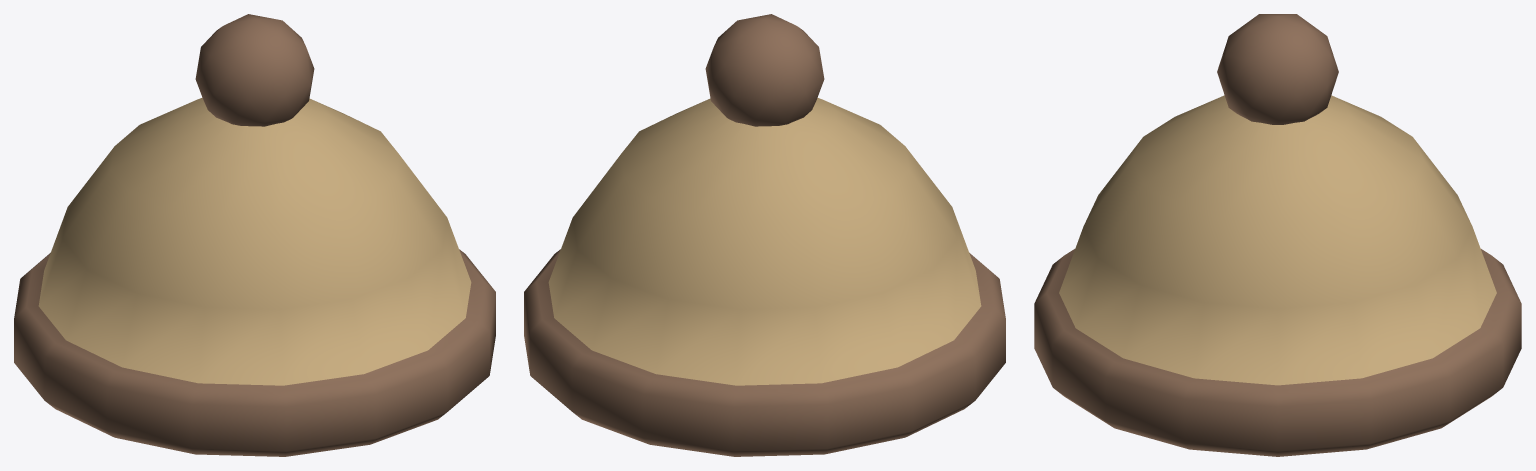
File: Hat(4).gltf
3 views of the same model, side by side, from view 1: azimuth 30°, elevation 25°; view 2: azimuth 150°, elevation 25°; view 3: azimuth 270°, elevation 25° (orthographic).
Visible parts, largest first — view 1: Hat(4); view 2: Hat(4); view 3: Hat(4).
Boxes of the visible parts, x1,y1,x2,y2 form: Hat(4): (14,14,495,456); Hat(4): (524,14,1005,456); Hat(4): (1034,14,1521,456).
Bounding box in the file's own units: 1.86 × 1.44 × 1.86.
Materials: 1 (1 with a texture image).
